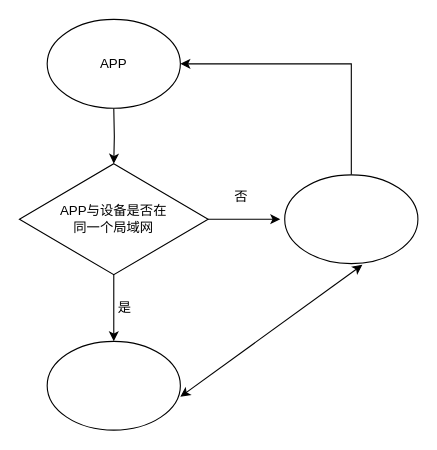
The diagram is 437 pixels wide and 450 high, and some of its shapes have lost their labels. Here are the shapes that lost their labels. From the top down, the box of each, then its label:
(284, 174, 418, 264): 涂鸦云
(46, 340, 180, 430): 设备
